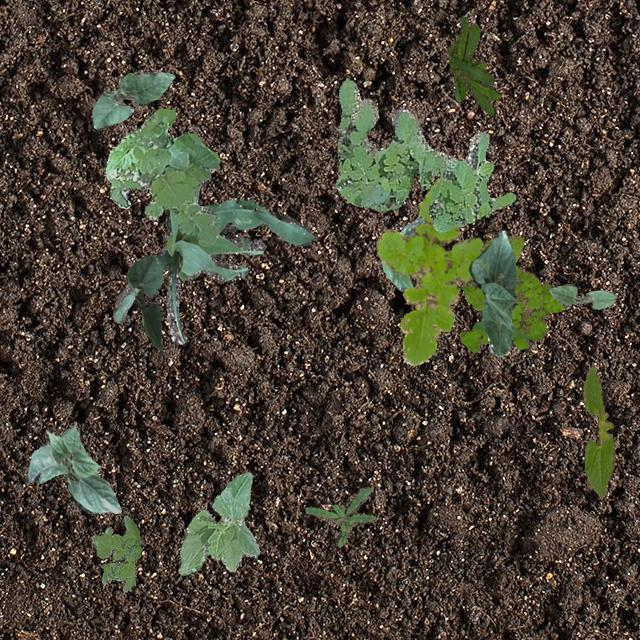crop: (112, 198, 314, 342), (24, 422, 120, 512), (178, 471, 258, 574), (468, 230, 516, 356), (90, 70, 174, 130), (582, 364, 614, 496), (125, 254, 162, 348), (381, 213, 425, 290), (548, 284, 616, 308)
weed: (334, 77, 514, 232), (376, 176, 522, 364), (104, 107, 218, 246), (458, 264, 562, 352), (446, 15, 498, 114), (304, 486, 374, 546), (90, 514, 140, 592)
